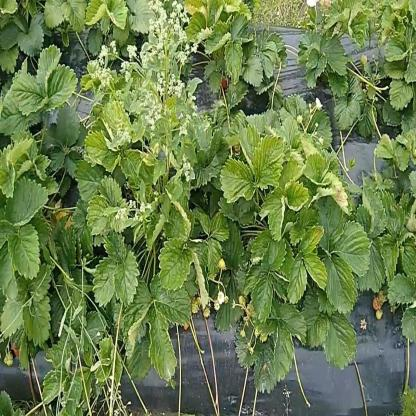ripe: (220, 73, 231, 92)
unripe: (374, 307, 384, 326), (372, 295, 381, 311)
